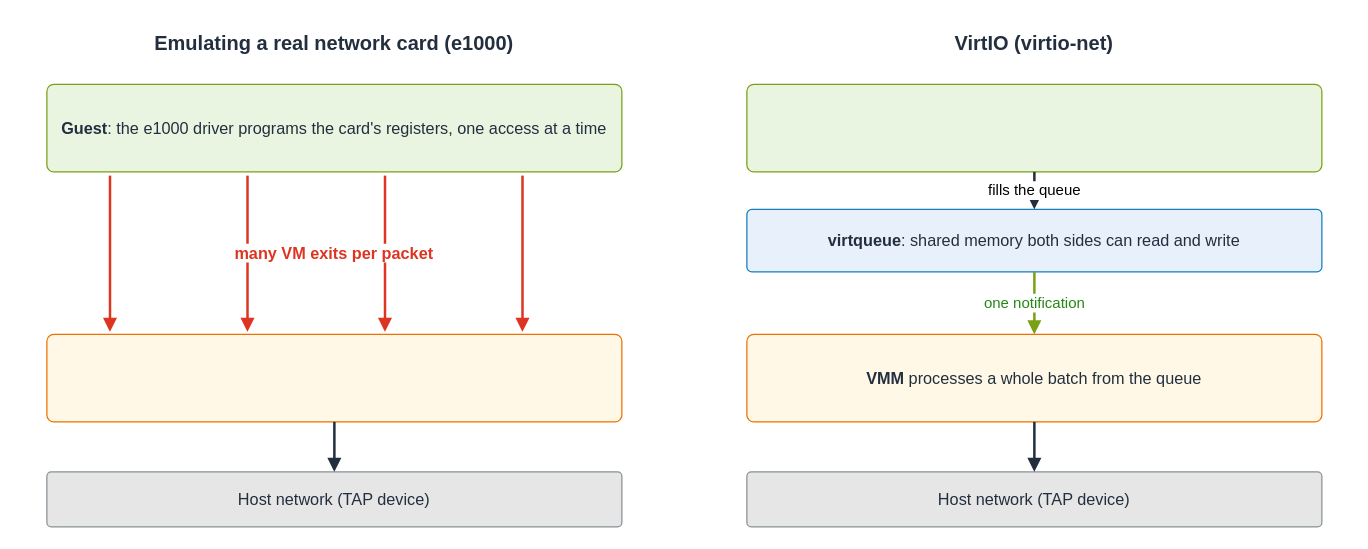
Some shapes in this 1368 by 549 pixel diagram are drawn without their labels. Each missing label, with the centre of its shape:
"Guest : the virtio driver puts packets in a queue in shared memory (a virtqueue)" belongs at (1034,127).
"VMM emulates the real card's behavior, register by register" belongs at (334,377).
